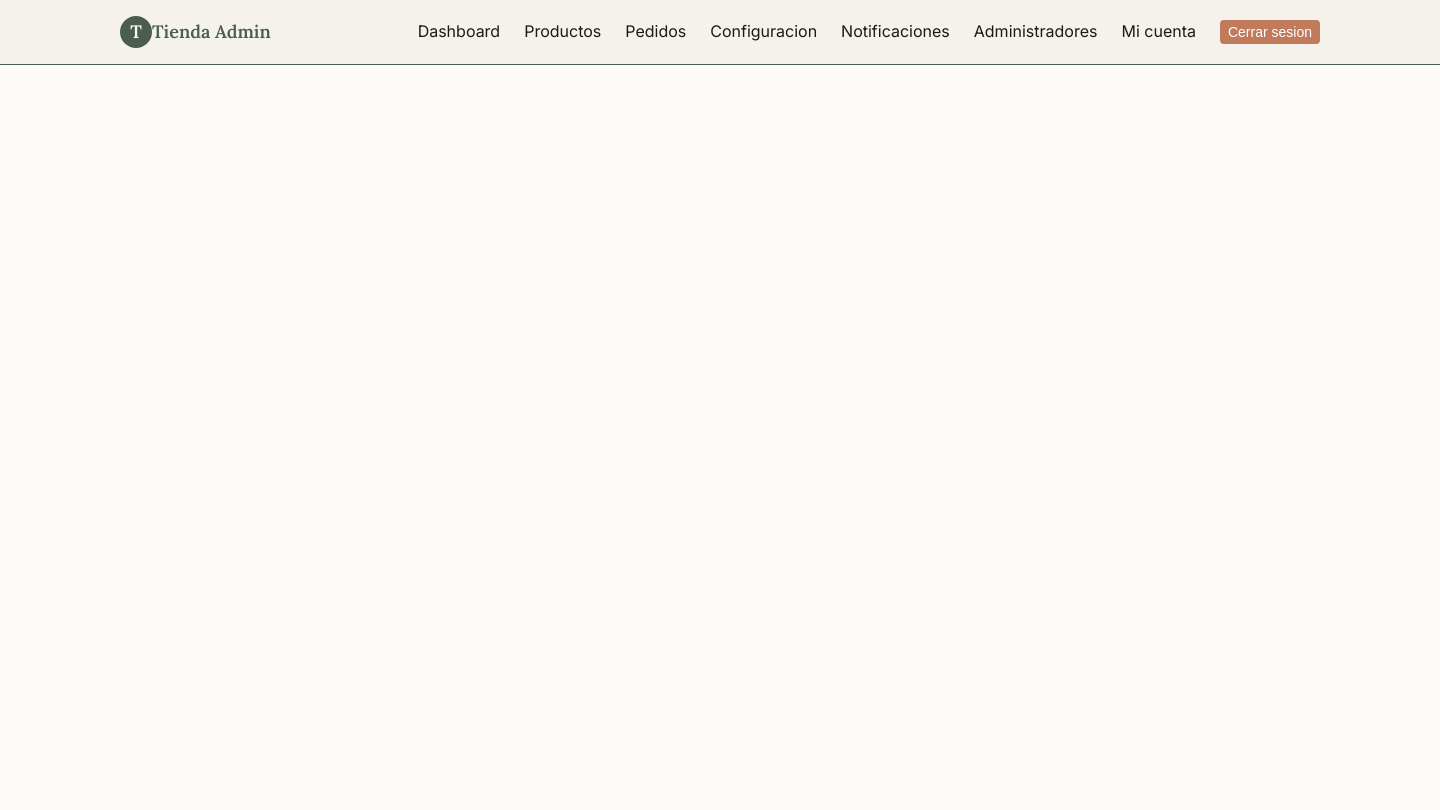
it: AdminHeader › boton "Cerrar sesion" abre modal de confirmacion
This screenshot has width=1440, height=810.
Click the button "Cerrar sesion".
click(1270, 32)  # box [1220,20,1320,44]
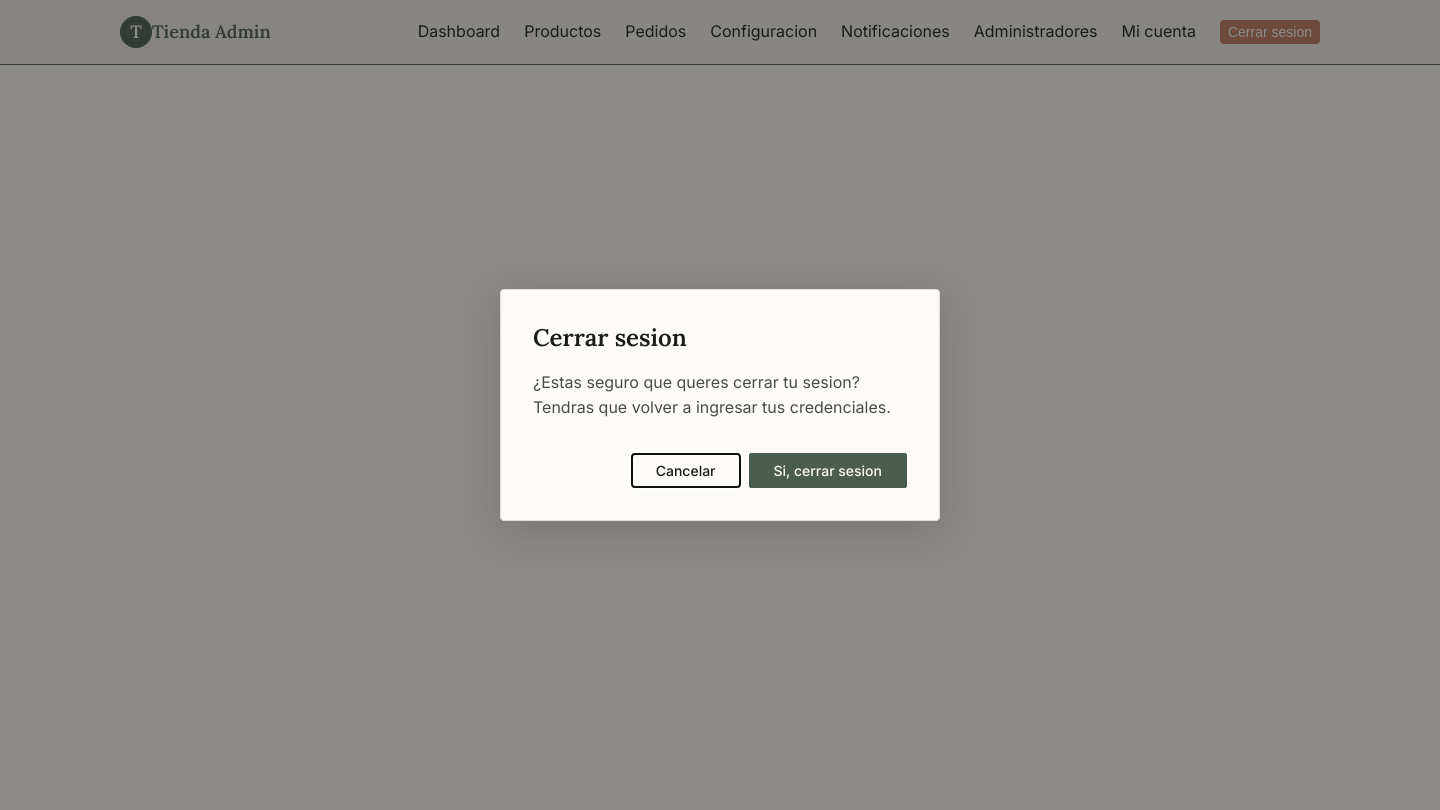
expect the dialog is shown: met, box [500,289,940,521]
expect the heading "Cerrar sesion" is shown: met, box [533,322,687,353]
